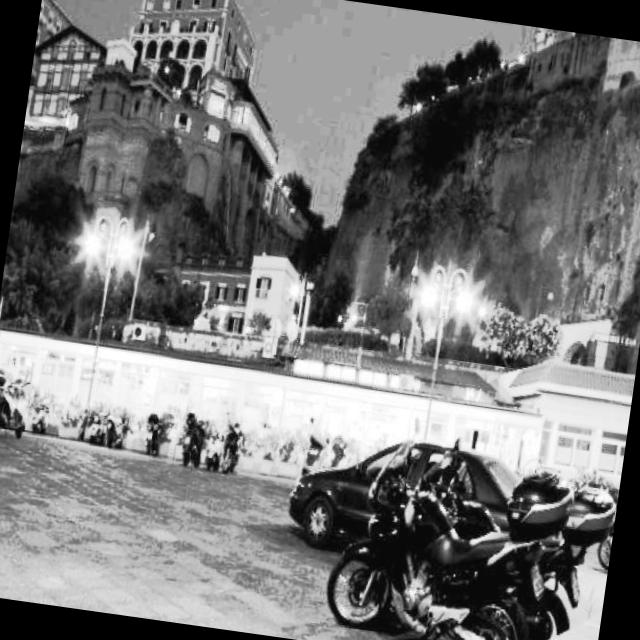Car: (279, 410, 552, 594)
Motorcycle: (316, 428, 550, 640), (411, 425, 624, 640)
